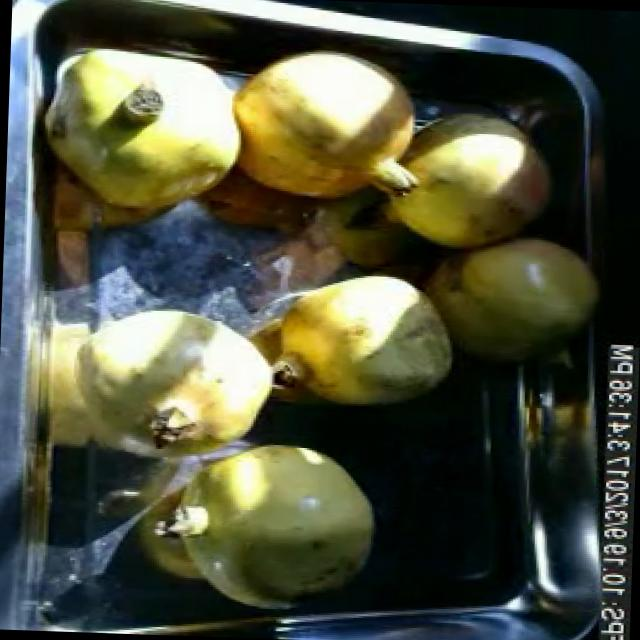fruit: (141, 420, 391, 620), (28, 36, 256, 236), (52, 289, 298, 465), (217, 40, 441, 220), (244, 256, 463, 418), (370, 96, 563, 262)
